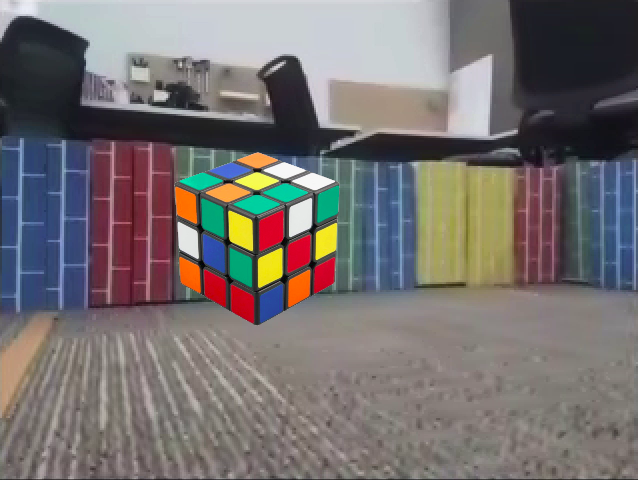ball: (126, 361, 162, 397)
